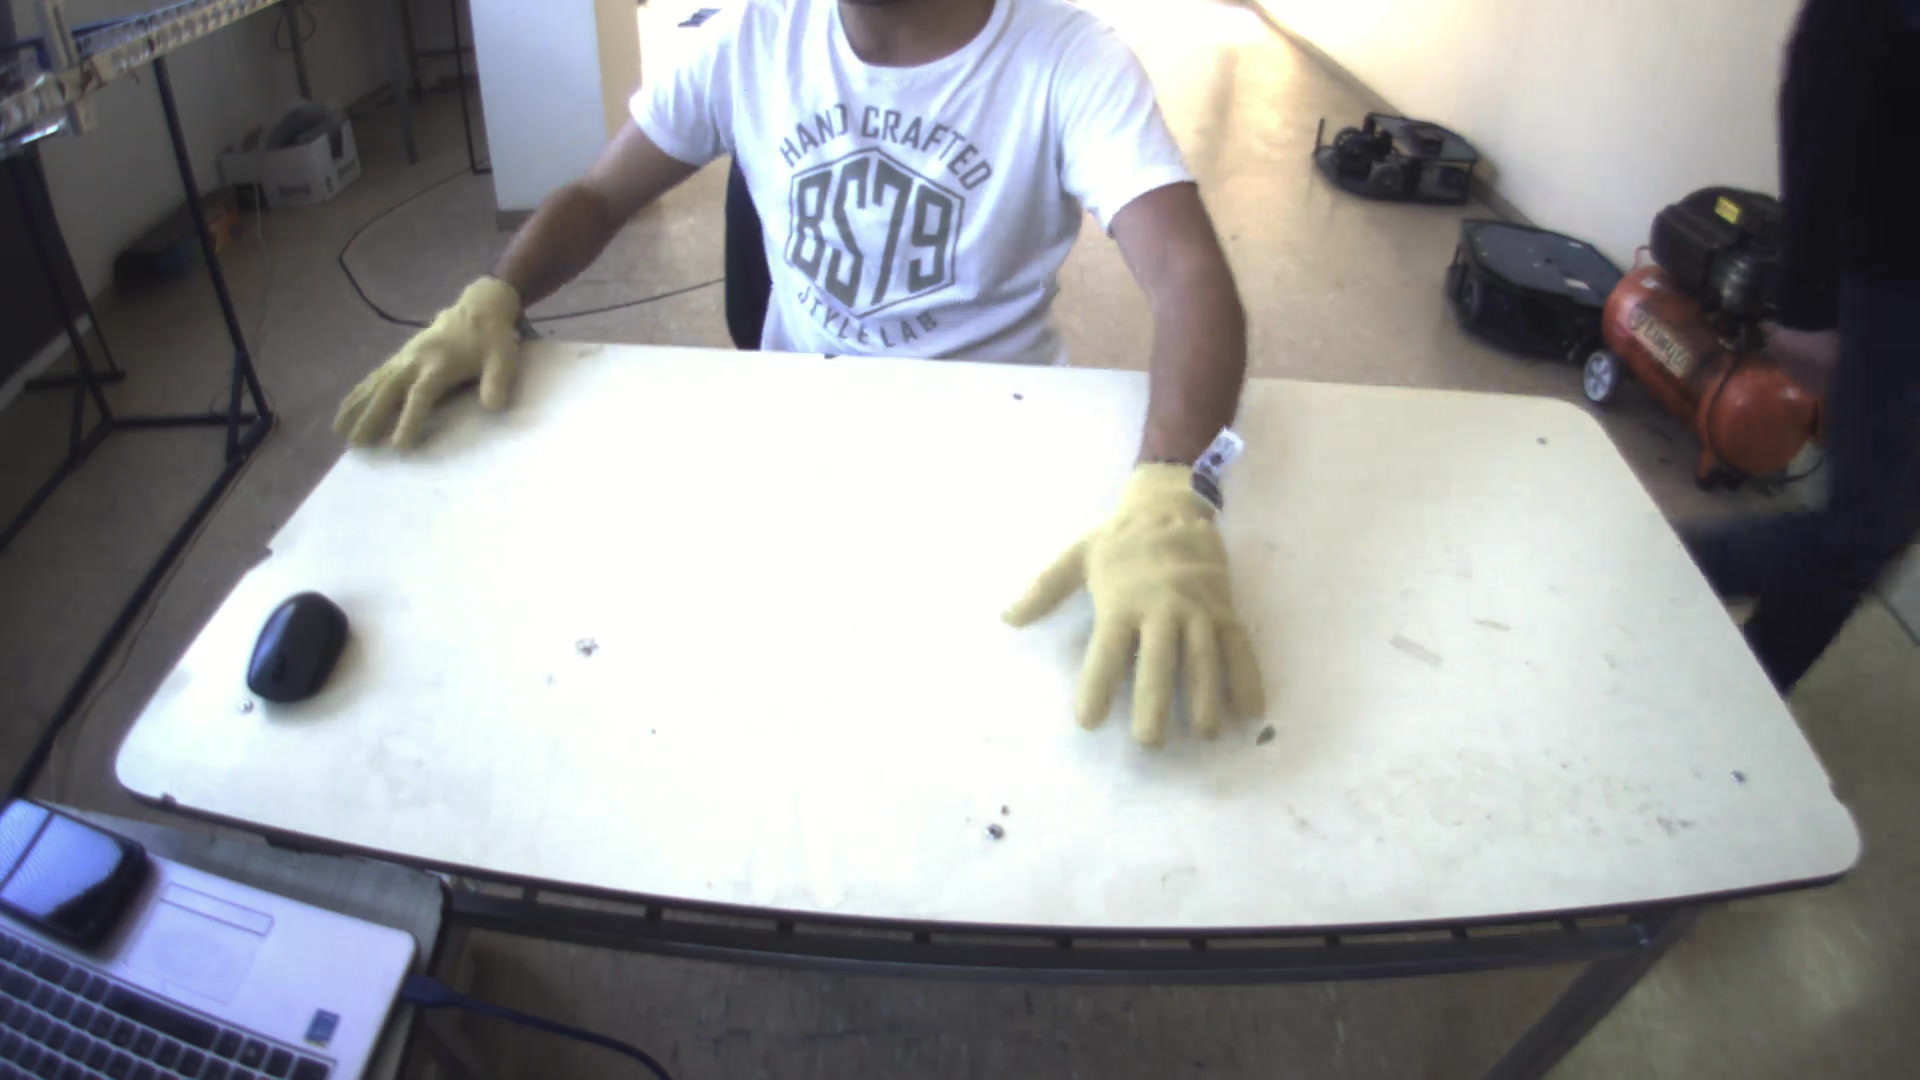hand: (990, 451, 1280, 750), (320, 265, 531, 455)
